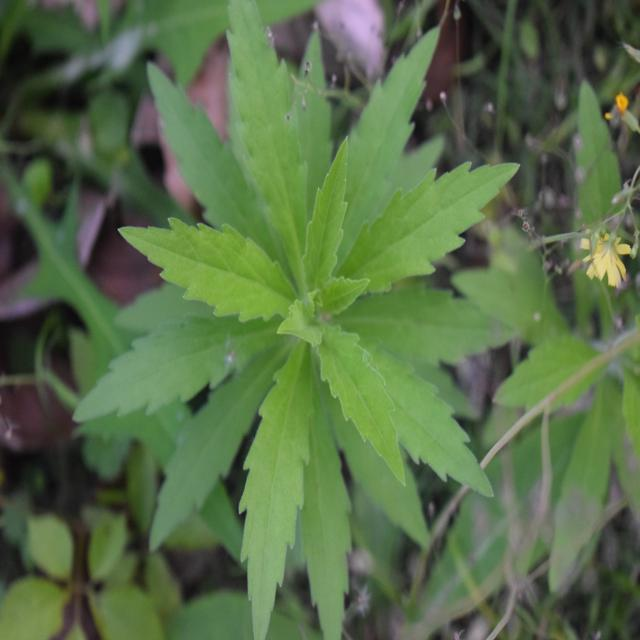horseweed: (135, 67, 494, 573)
